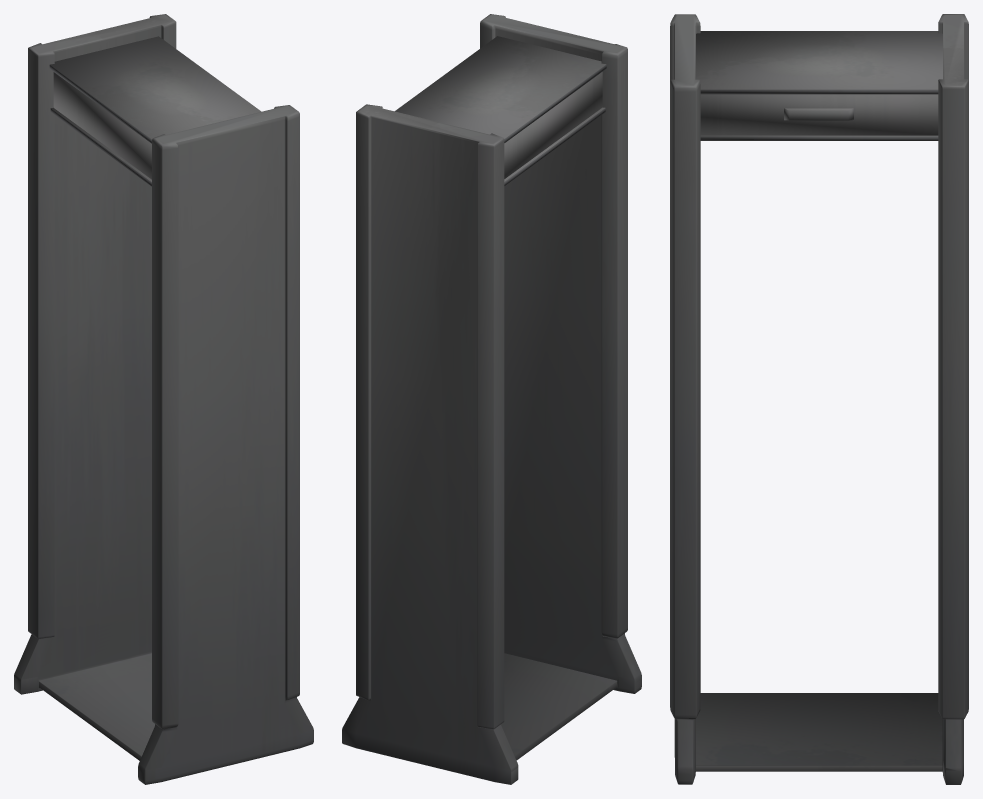
Rendered from machP_3.fbx.
3 renders of one model, left to right at view 1: azimuth 30°, elevation 25°; view 2: azimuth 150°, elevation 25°; view 3: azimuth 270°, elevation 25°, orthographic. The views are drawn at different scales.
Parts seen in each view (by area): view 1: Cube.002; view 2: Cube.002; view 3: Cube.002.
Part boxes in pixels (x1,y1,x2,y2): Cube.002: (14, 14, 313, 784); Cube.002: (342, 14, 641, 784); Cube.002: (670, 14, 968, 784).
Size of the model in its own units: 247 by 888 by 348.
